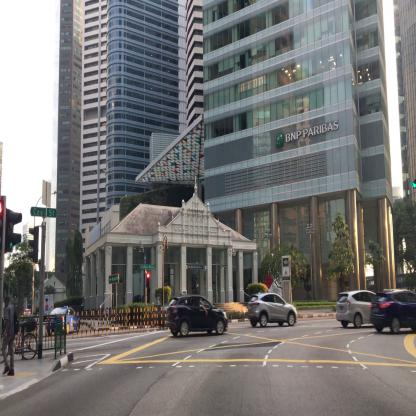red_traffic_light: (146, 272, 150, 288)
